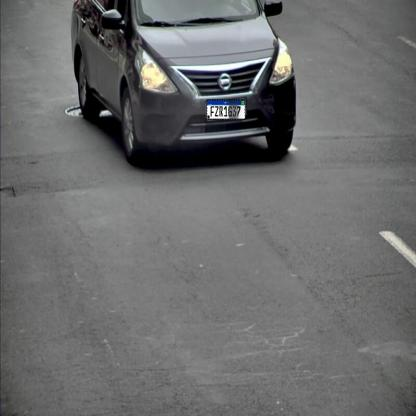PlacaM: (206, 99, 245, 120)
